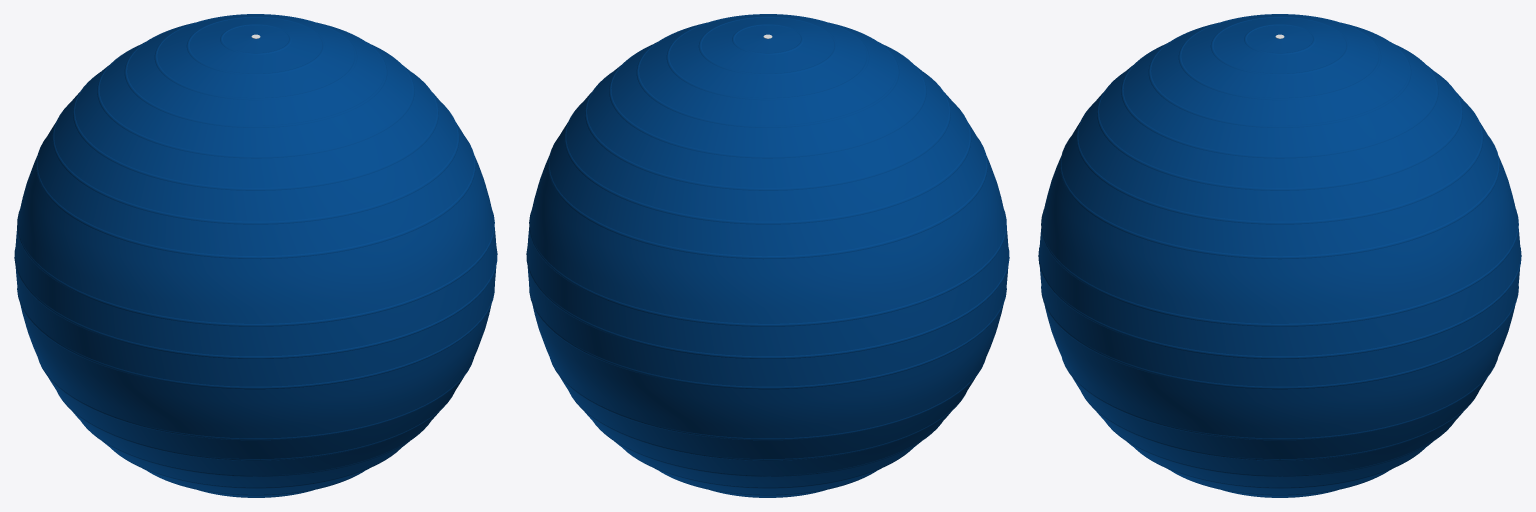
File: stability_ball.fbx
The picture shows the model from 3 angles, left to right: view 1: azimuth 30°, elevation 25°; view 2: azimuth 150°, elevation 25°; view 3: azimuth 270°, elevation 25°; orthographic projection.
Visible parts, largest first — view 1: stabilityball_248.001; view 2: stabilityball_248.001; view 3: stabilityball_248.001.
Boxes of the visible parts, x1=… form: stabilityball_248.001: x1=14, y1=14, x2=497, y2=497; stabilityball_248.001: x1=526, y1=14, x2=1009, y2=497; stabilityball_248.001: x1=1038, y1=14, x2=1521, y2=497.
Size of the model in its own units: 110 by 111 by 110.
